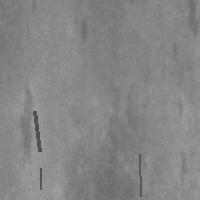inclusion: (71, 109, 144, 197), (17, 79, 40, 169), (70, 15, 92, 47), (171, 150, 189, 189), (182, 1, 199, 37), (32, 109, 41, 153), (137, 152, 142, 198), (38, 166, 42, 191)
